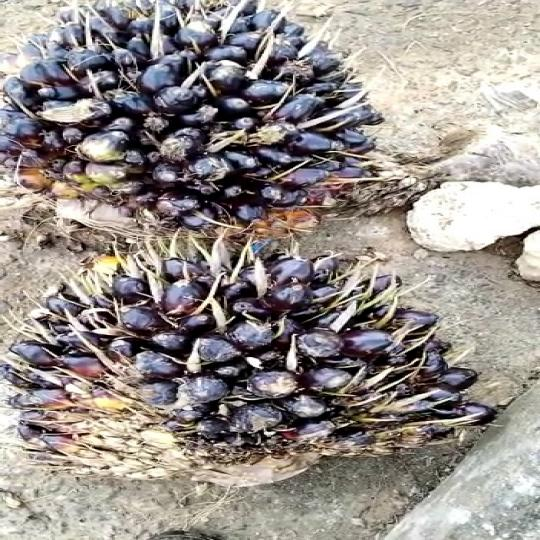mentah: (0, 230, 519, 512), (0, 0, 374, 228)
